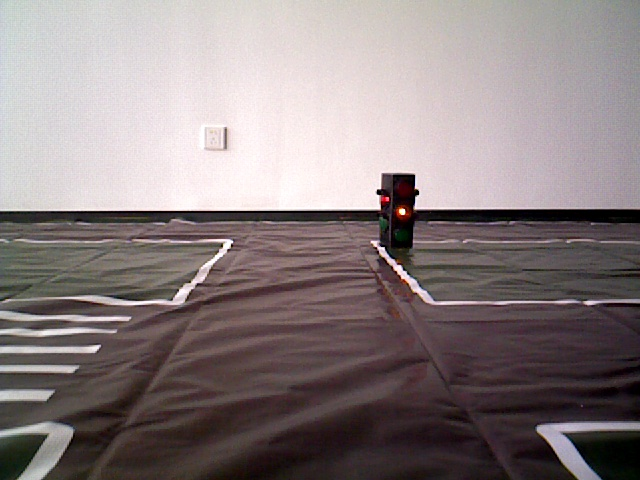yellow: (381, 169, 414, 245)
